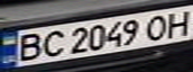0: (87, 21, 109, 52)
2: (66, 24, 90, 55)
4: (103, 18, 127, 48)
9: (121, 16, 145, 46)
B: (12, 30, 48, 63)
C: (36, 28, 69, 60)
H: (160, 7, 193, 37)
O: (139, 11, 175, 42)
